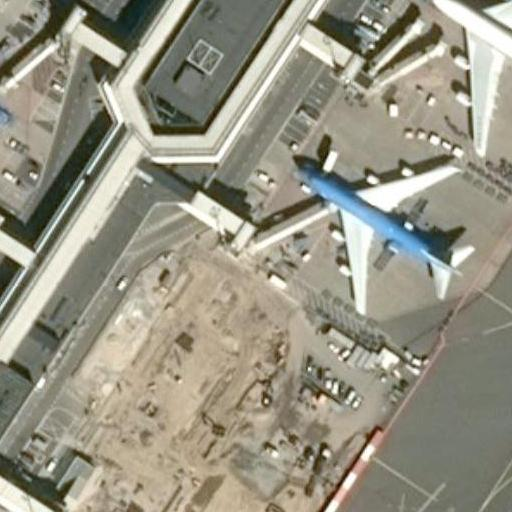Aircraft: (284, 141, 472, 315), (410, 0, 512, 152), (0, 0, 12, 136)
